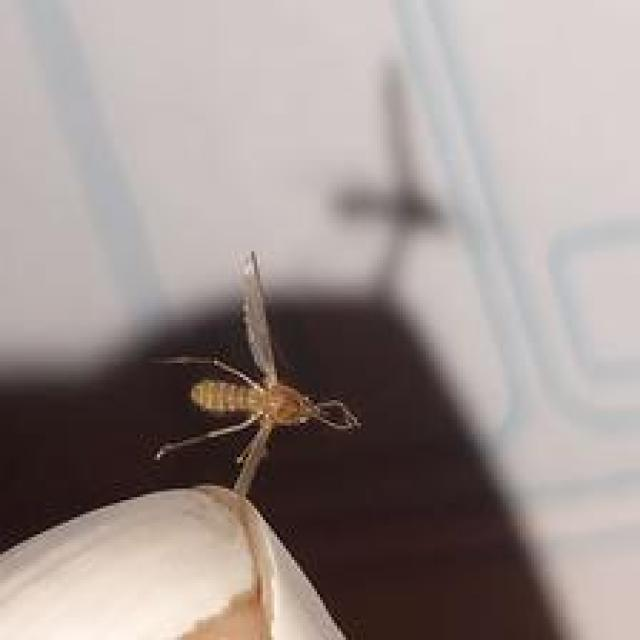Culex: (147, 249, 362, 500)
